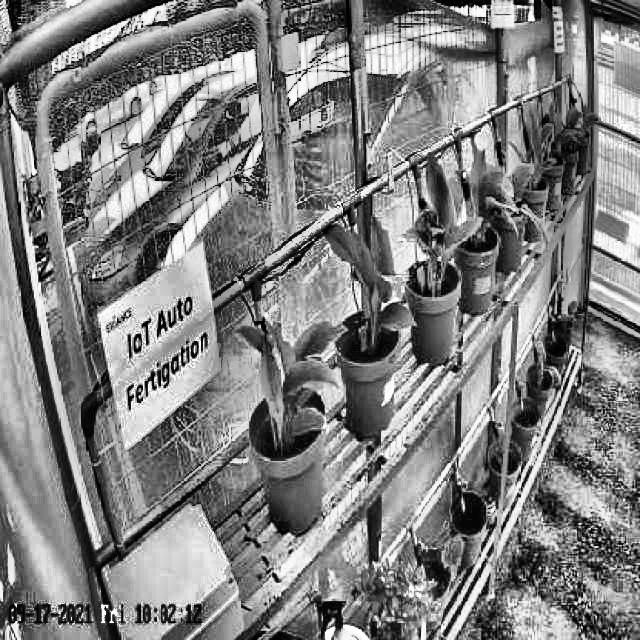plants: (235, 316, 348, 438), (320, 218, 417, 336), (404, 154, 468, 291), (458, 151, 512, 247)
